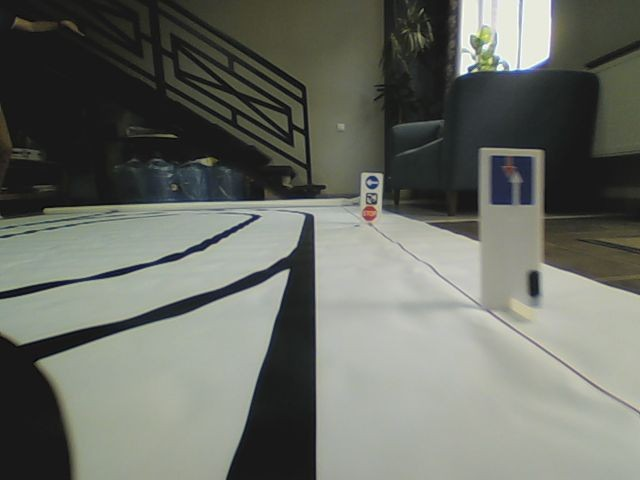Stop: (362, 205, 378, 221)
priority_movement: (490, 153, 535, 206)
